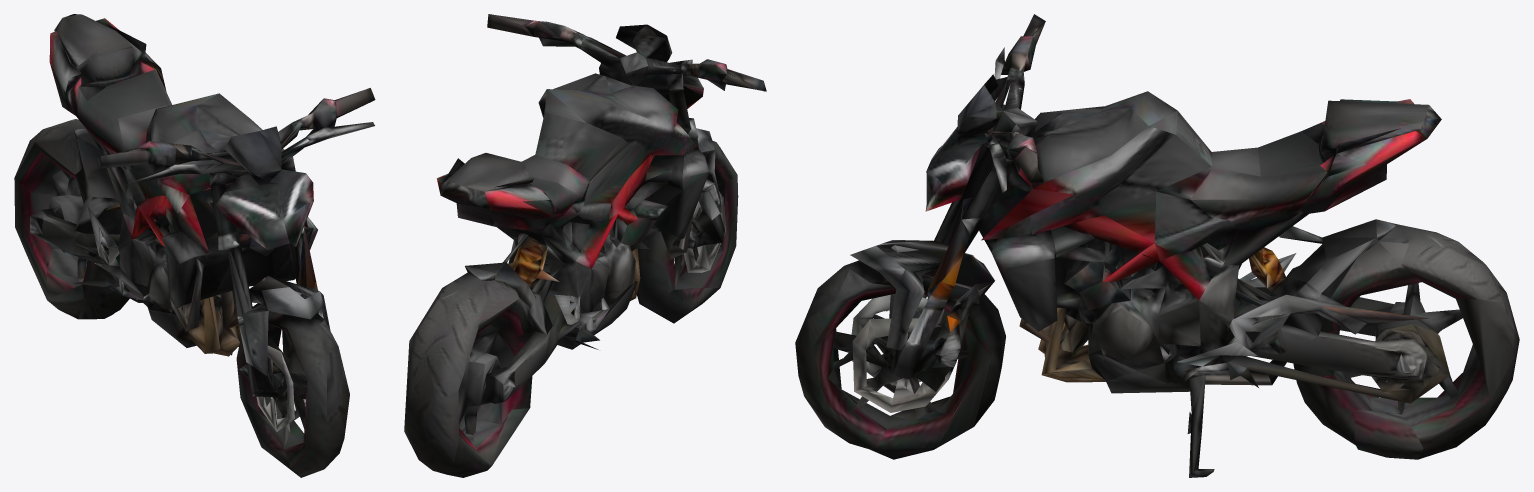
Rendered from motorcycle.glb.
3 views of the same model, side by side, from view 1: azimuth 30°, elevation 25°; view 2: azimuth 150°, elevation 25°; view 3: azimuth 270°, elevation 25° (orthographic). The views are drawn at different scales.
Visible parts, largest first — view 1: tripo_node_21aab185; view 2: tripo_node_21aab185; view 3: tripo_node_21aab185.
Boxes of the visible parts, left/top/right/bottom form: tripo_node_21aab185: left=14, top=14, right=375, bottom=477; tripo_node_21aab185: left=404, top=14, right=766, bottom=477; tripo_node_21aab185: left=795, top=14, right=1519, bottom=477.
Size of the model in its own units: 1.12 by 1.21 by 2.15.
1 material, 1 textured.
